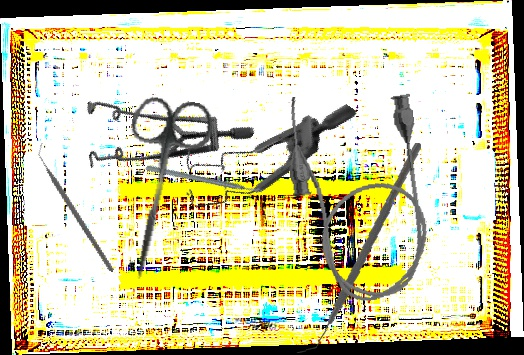Cannula: (278, 79, 441, 310)
Chopper: (279, 142, 438, 354), (4, 142, 150, 273), (145, 122, 269, 234)
Iris Scissors: (102, 91, 218, 288)
Speculum: (164, 45, 358, 253), (59, 44, 257, 232)
